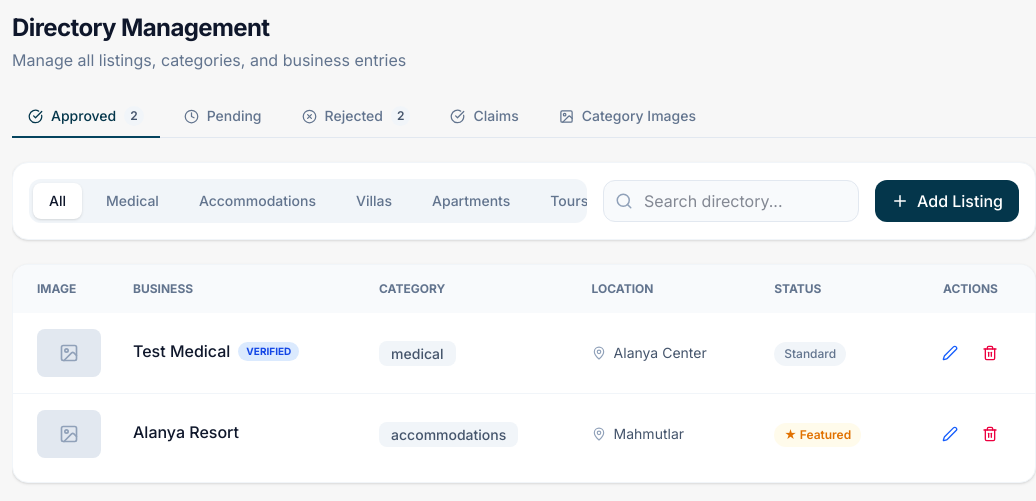
Test: DirectoryAdminPage › filters listings by category
Expected: the text "Test Medical" is shown, [133,341,230,361]
Click the button "Medical" at (132,201), box [90,183,175,219]
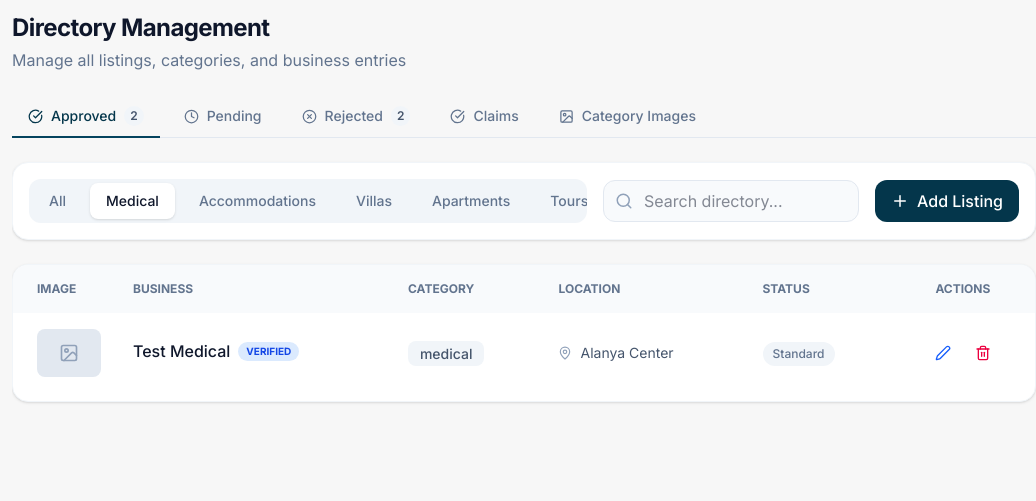
Expected: the text "Test Medical" is shown, [133,341,230,361]
Expected: the text "Alanya Resort" is gone
